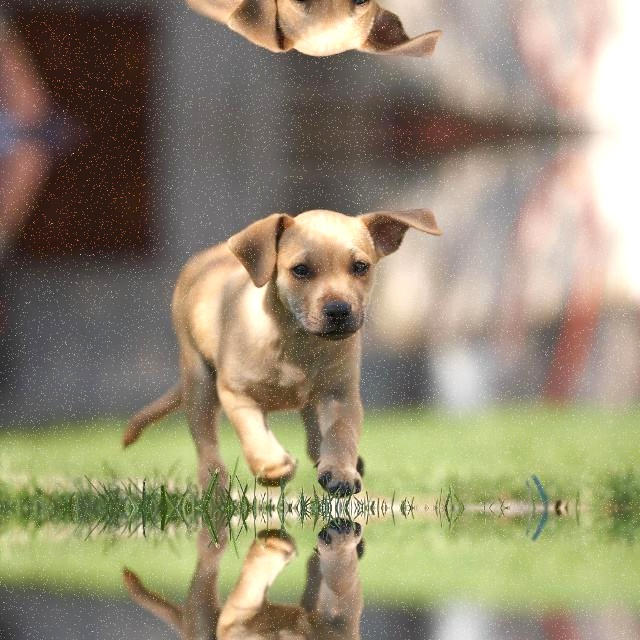dog: (113, 188, 447, 494), (114, 520, 447, 640), (114, 0, 447, 76)
